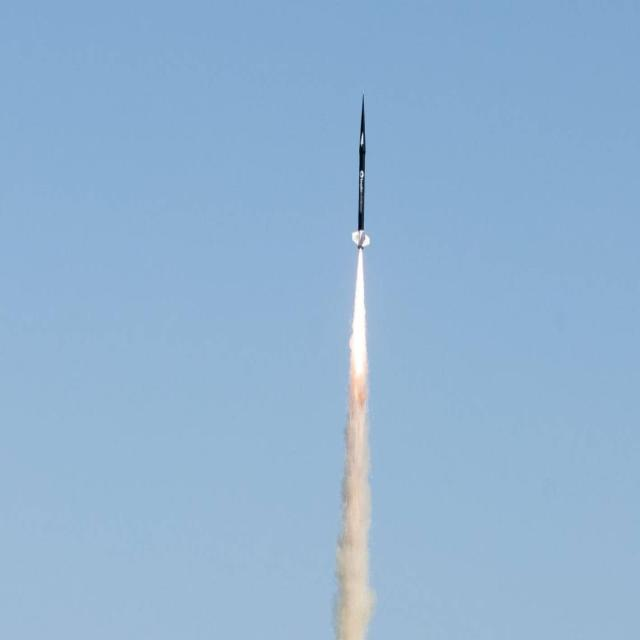Rocket: (350, 90, 370, 252)
